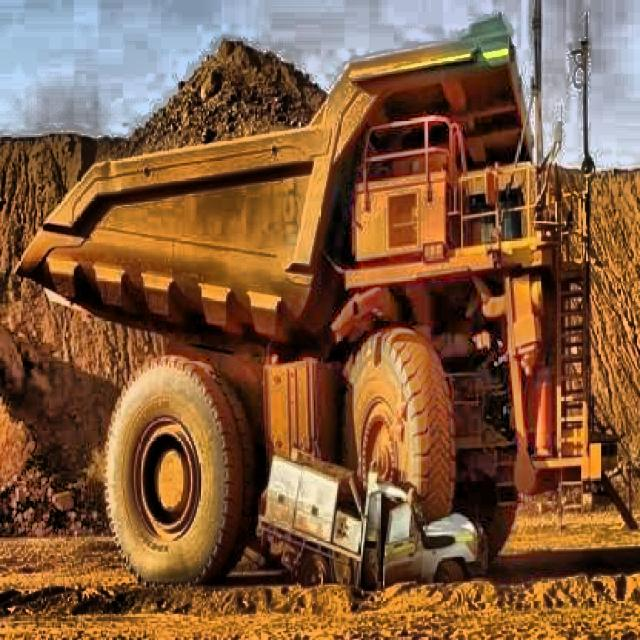dump_truck: (17, 23, 618, 582)
